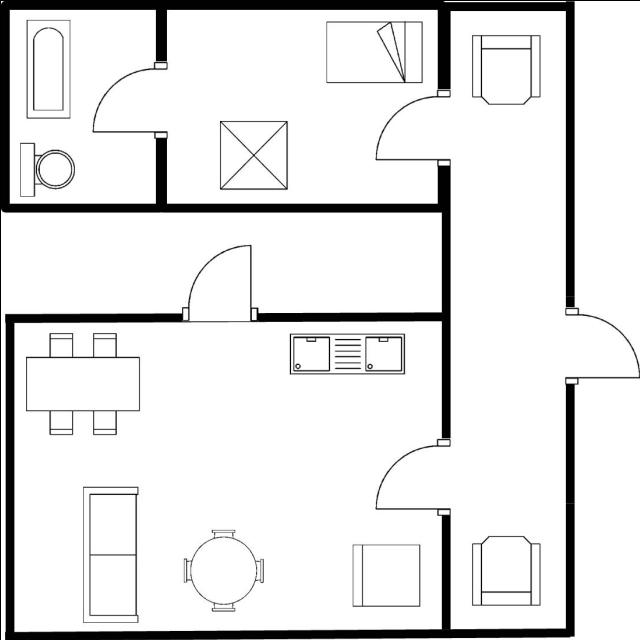armchair: (467, 29, 544, 109), (466, 532, 544, 610)
bed: (321, 18, 427, 86)
coffee_table: (214, 114, 294, 194)
dining_table: (20, 326, 144, 439)
large_sink: (16, 139, 82, 199)
large_sofa: (77, 481, 144, 626)
round_table: (178, 524, 268, 614)
small_sofa: (346, 538, 424, 613)
tub: (22, 15, 76, 124)
twin_sink: (286, 327, 408, 379)
